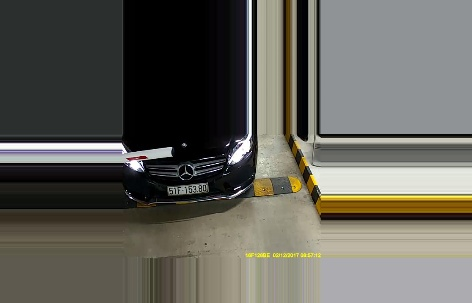plate: (165, 183, 210, 196)
